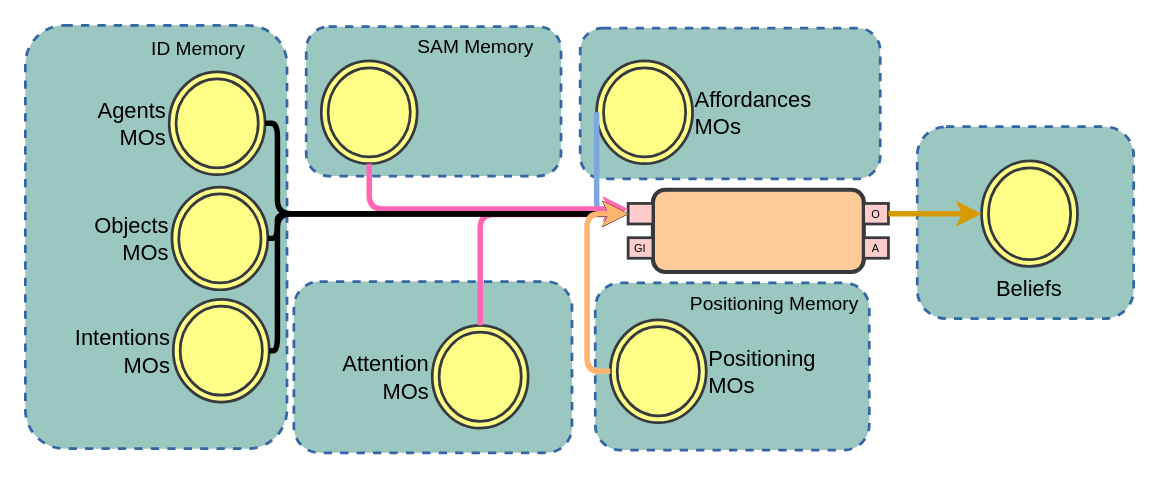
Some shapes in this 1158 by 477 pixel diagram are drawn without their labels. The box of each missing label's shape, as (x1, y1, x2, y2) in pixels:
EDD Memory: (292, 279, 573, 453)
LI: (626, 201, 654, 225)
Semantic Memory: (578, 26, 881, 179)
Shared Attention MOs: (319, 59, 418, 164)
Theory of Mind Codelet: (650, 187, 865, 273)
ToM Memory: (915, 125, 1134, 319)
